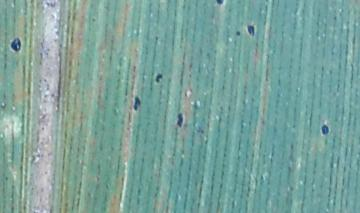tarspot: (8, 34, 24, 56), (131, 93, 143, 114), (244, 20, 257, 39), (174, 109, 186, 129), (319, 119, 331, 138), (153, 69, 164, 87), (233, 27, 242, 39), (215, 1, 226, 8)
